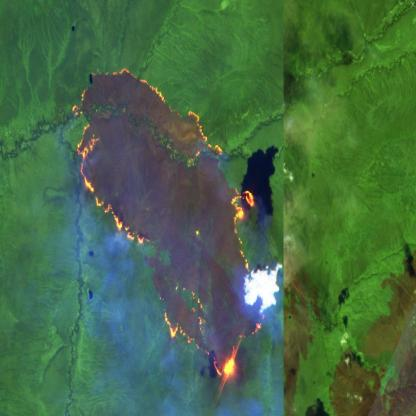fire: (68, 63, 270, 384)
